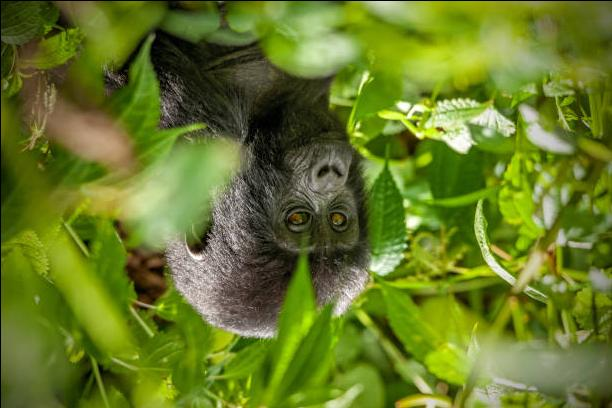goriile_montagne: (97, 28, 361, 349)
